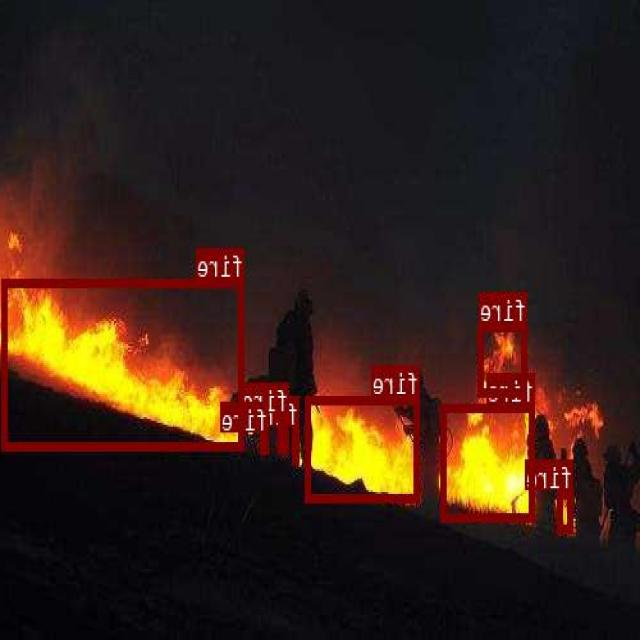fire: (3, 278, 245, 449), (306, 395, 420, 500), (442, 403, 536, 521), (479, 322, 528, 395), (558, 489, 574, 531), (280, 412, 290, 452), (294, 426, 301, 462), (262, 431, 269, 453)
